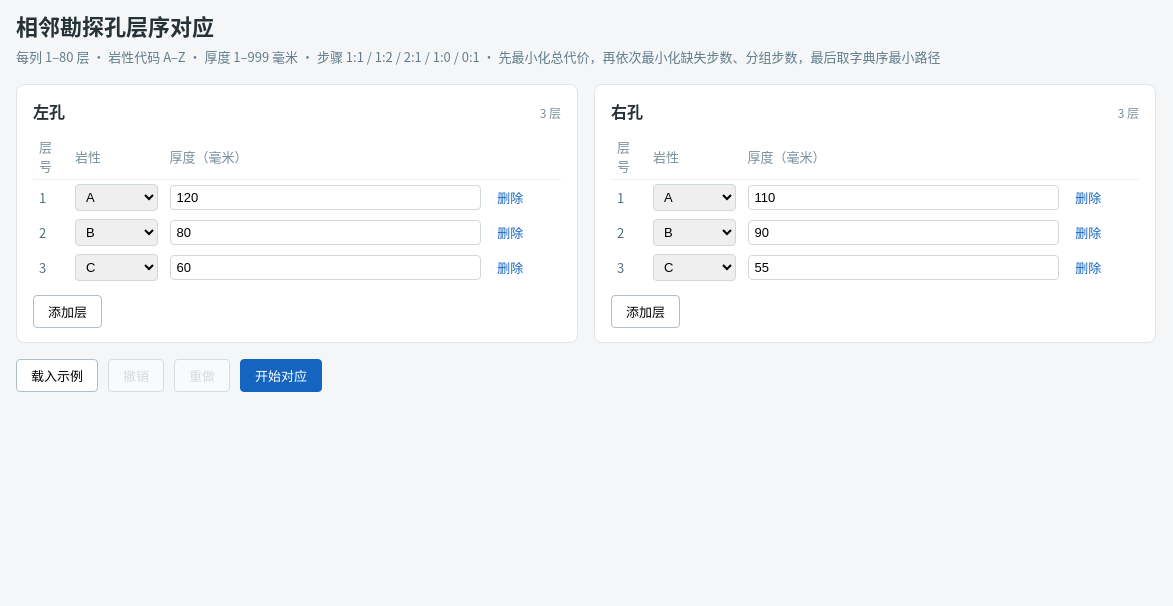
it: App › 校验错误在编辑输入后同样失效
Click the button "载入示例". click: {"x": 57, "y": 376}
box: 16,359 -> 98,392
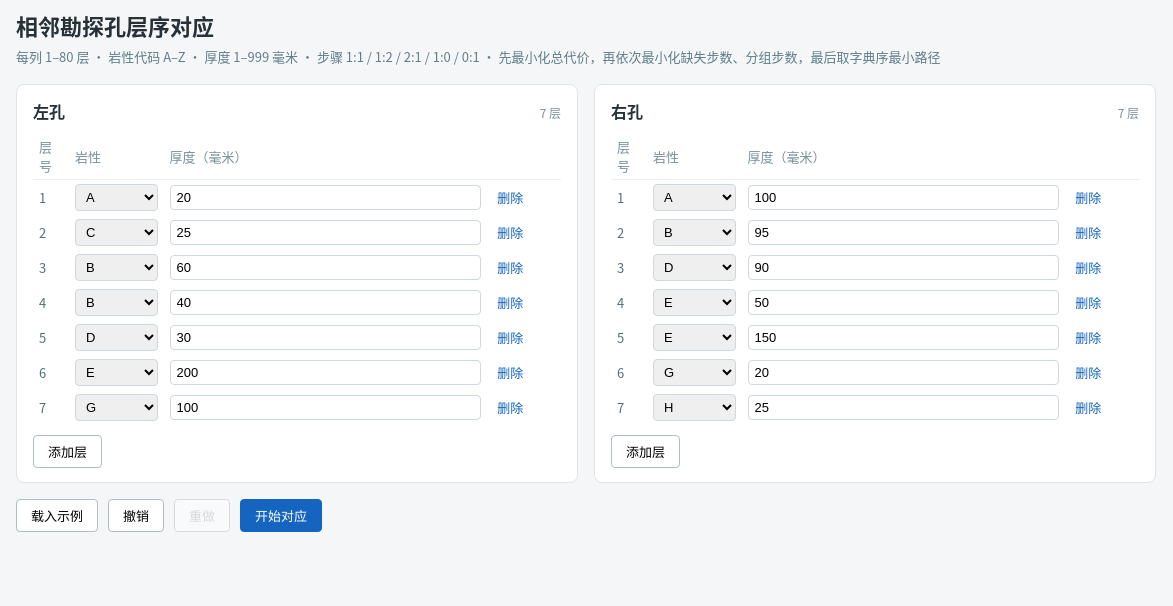
Replace the text in the field with test id "layer-thickness-right-1" with "0". click: {"x": 903, "y": 232}
box: 748,220 -> 1059,245
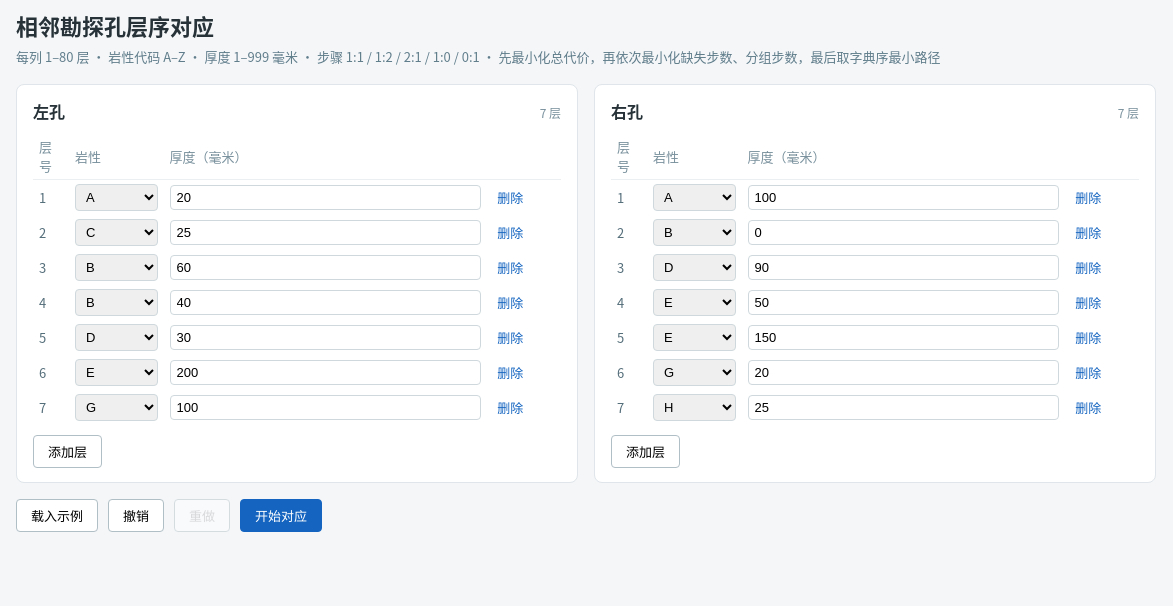
Click the button "开始对应". click: {"x": 281, "y": 516}
box: 240,499 -> 322,532
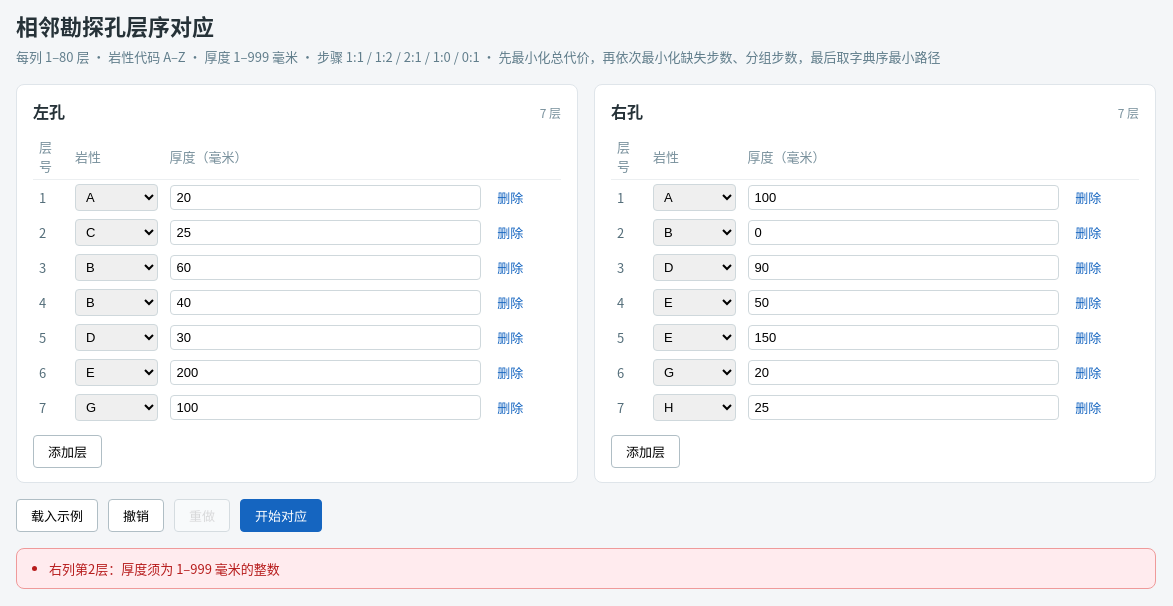
Now the list with test id "errors" shows "右列第2层", box 49,559 -> 280,578
Replace the text in the field with test id "layer-thickness-right-1" with "95". click: {"x": 903, "y": 232}
box: 748,220 -> 1059,245
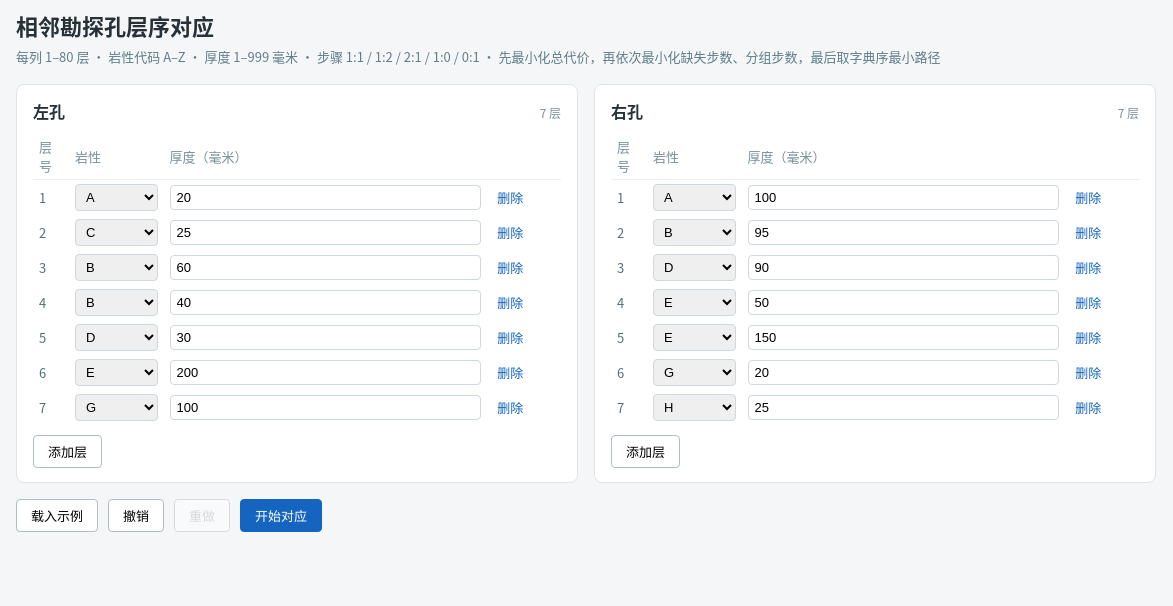
Now the list with test id "errors" is gone
